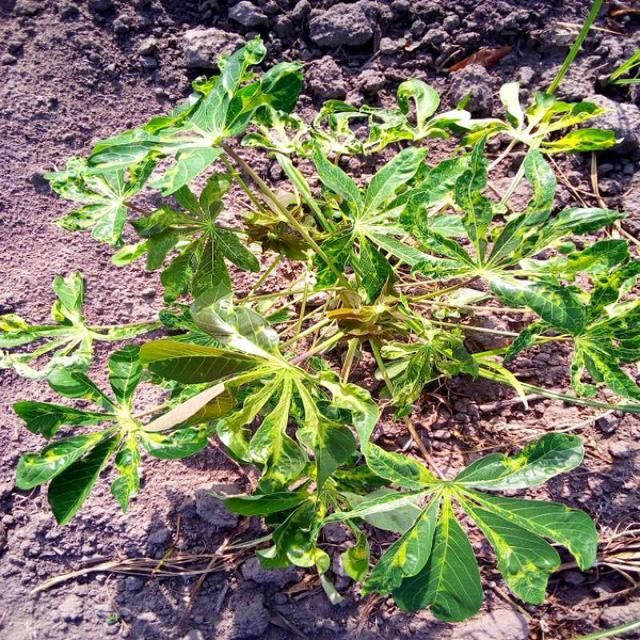Mosaico: (356, 439, 606, 598), (0, 353, 196, 514), (201, 311, 369, 470), (119, 118, 247, 287), (523, 258, 640, 392), (494, 63, 603, 184), (330, 147, 423, 283)
